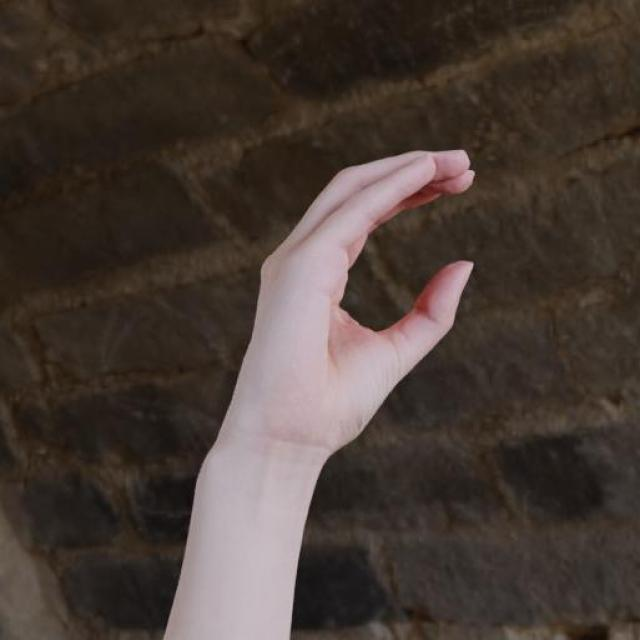C: (234, 110, 492, 464)
